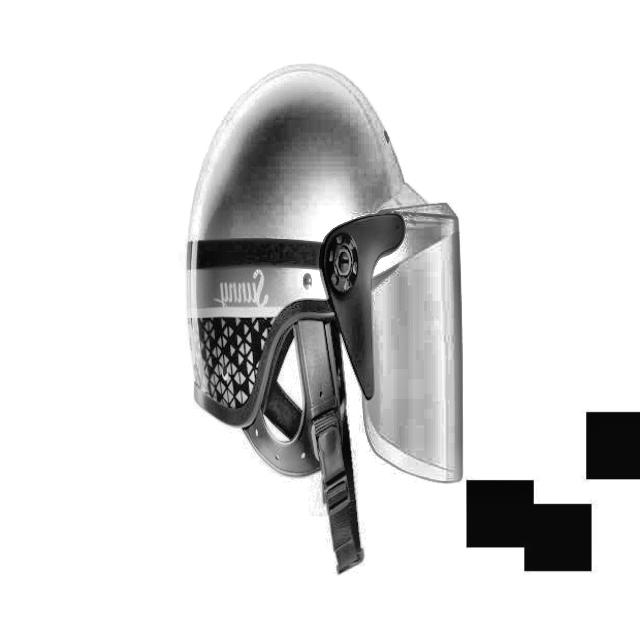Helmet: (174, 45, 478, 612)
